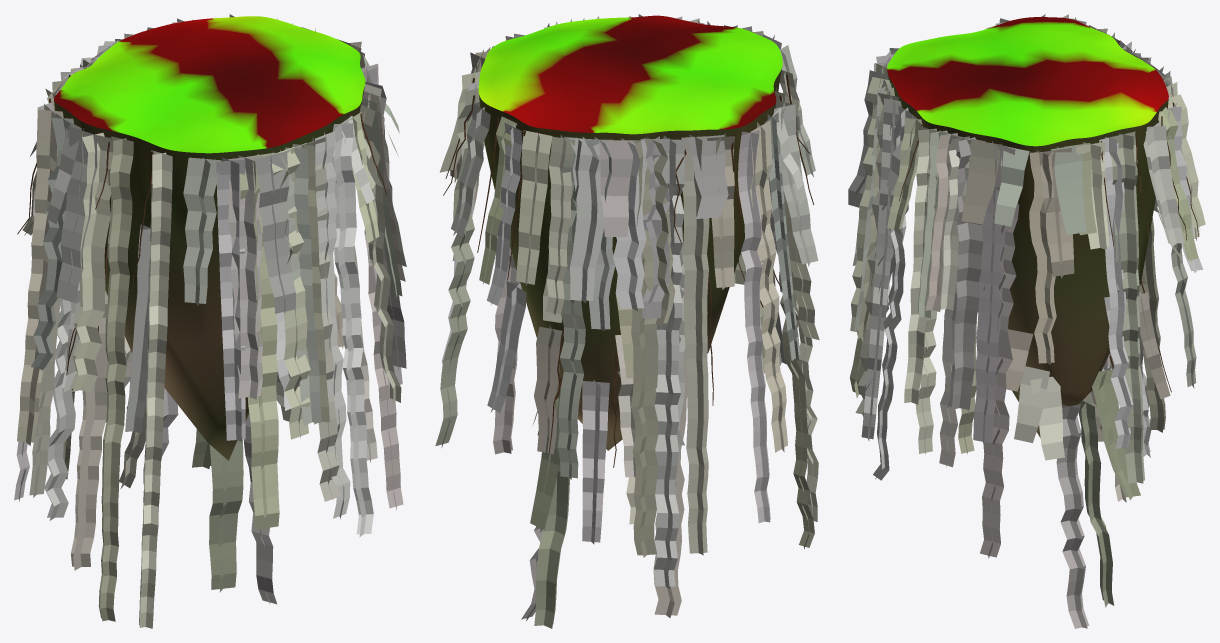
File: SM_H17_Floater05.fbx
3 views of the same model, side by side, from view 1: azimuth 30°, elevation 25°; view 2: azimuth 150°, elevation 25°; view 3: azimuth 270°, elevation 25° (orthographic). The views are drawn at different scales.
Parts seen in each view (by area): view 1: SM_H17_Floater05_Ivy, SM_H17_Floater05; view 2: SM_H17_Floater05_Ivy, SM_H17_Floater05; view 3: SM_H17_Floater05_Ivy, SM_H17_Floater05.
Boxes of the visible parts, x1,y1,x2,y2 form: SM_H17_Floater05_Ivy: (14,14,406,628); SM_H17_Floater05: (54,16,365,460); SM_H17_Floater05_Ivy: (435,14,819,628); SM_H17_Floater05: (478,15,782,450); SM_H17_Floater05_Ivy: (848,14,1205,628); SM_H17_Floater05: (887,17,1168,437).
Bounding box in the file's own units: 22.73 × 35.15 × 21.82.
